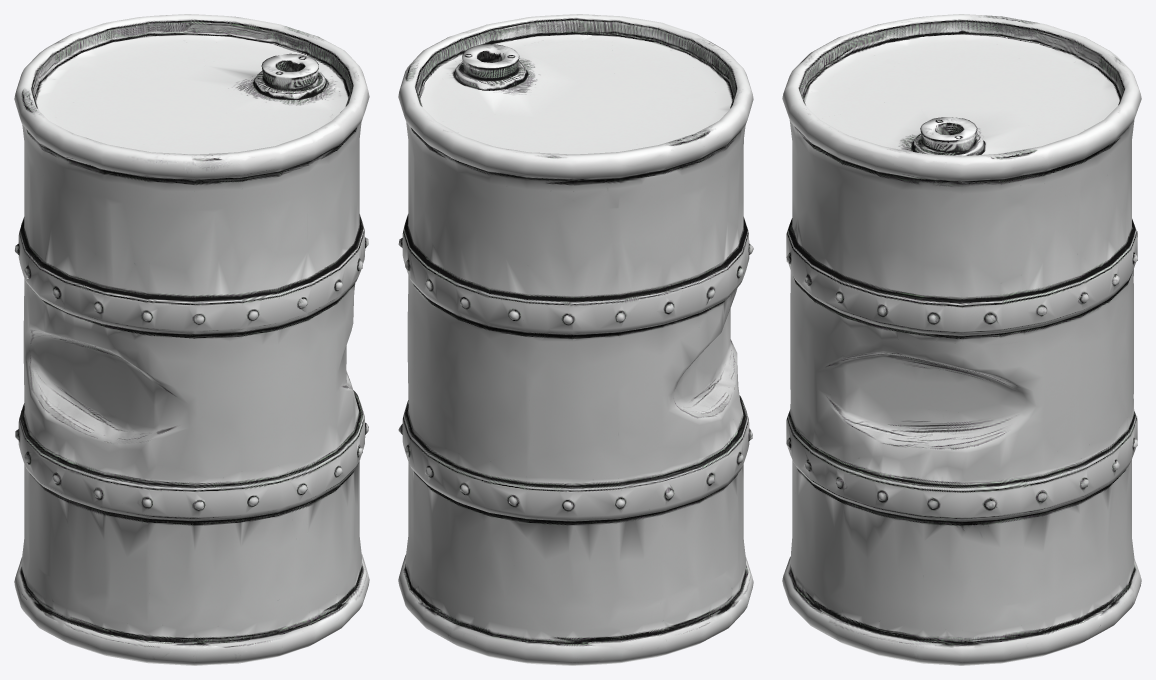
The model's file is metal-barrel.glb.
The picture shows the model from 3 angles, left to right: view 1: azimuth 30°, elevation 25°; view 2: azimuth 150°, elevation 25°; view 3: azimuth 270°, elevation 25°; orthographic projection.
Size of the model in its own units: 1.22 by 1.91 by 1.22.
1 material, 1 textured.
